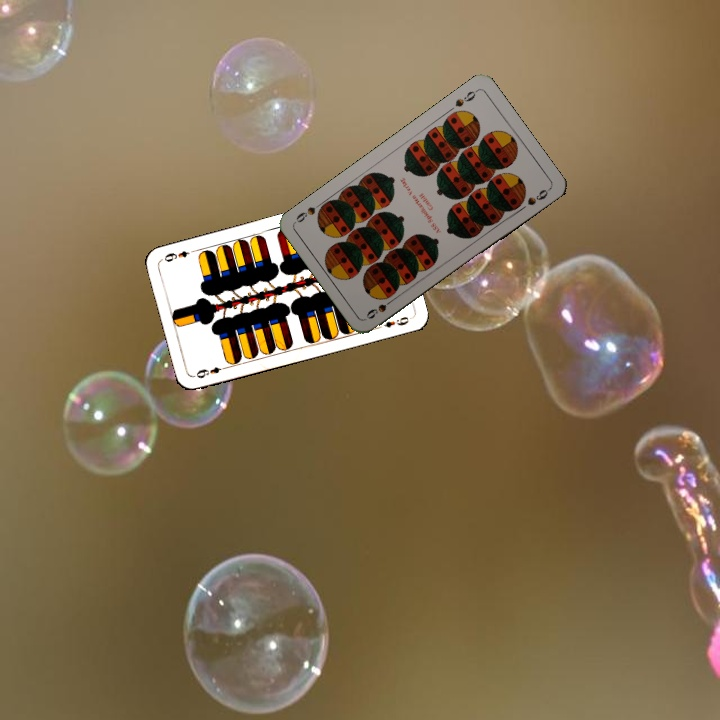E9: (191, 362, 231, 381)
S9: (362, 293, 398, 322), (451, 85, 480, 110)
